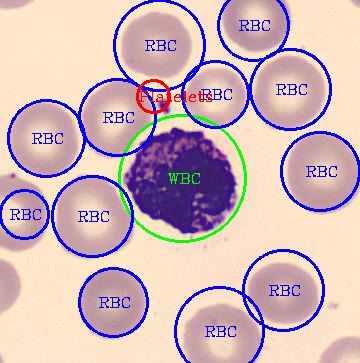Platelets: (154, 93, 174, 118)
RBC: (54, 172, 135, 260), (284, 129, 359, 216), (79, 78, 153, 160), (251, 53, 328, 131), (74, 264, 149, 341), (7, 99, 79, 178), (117, 9, 193, 80), (181, 300, 263, 362), (246, 258, 320, 325), (182, 65, 248, 129), (219, 0, 293, 53), (0, 171, 48, 252)
WBC: (125, 127, 240, 235)
